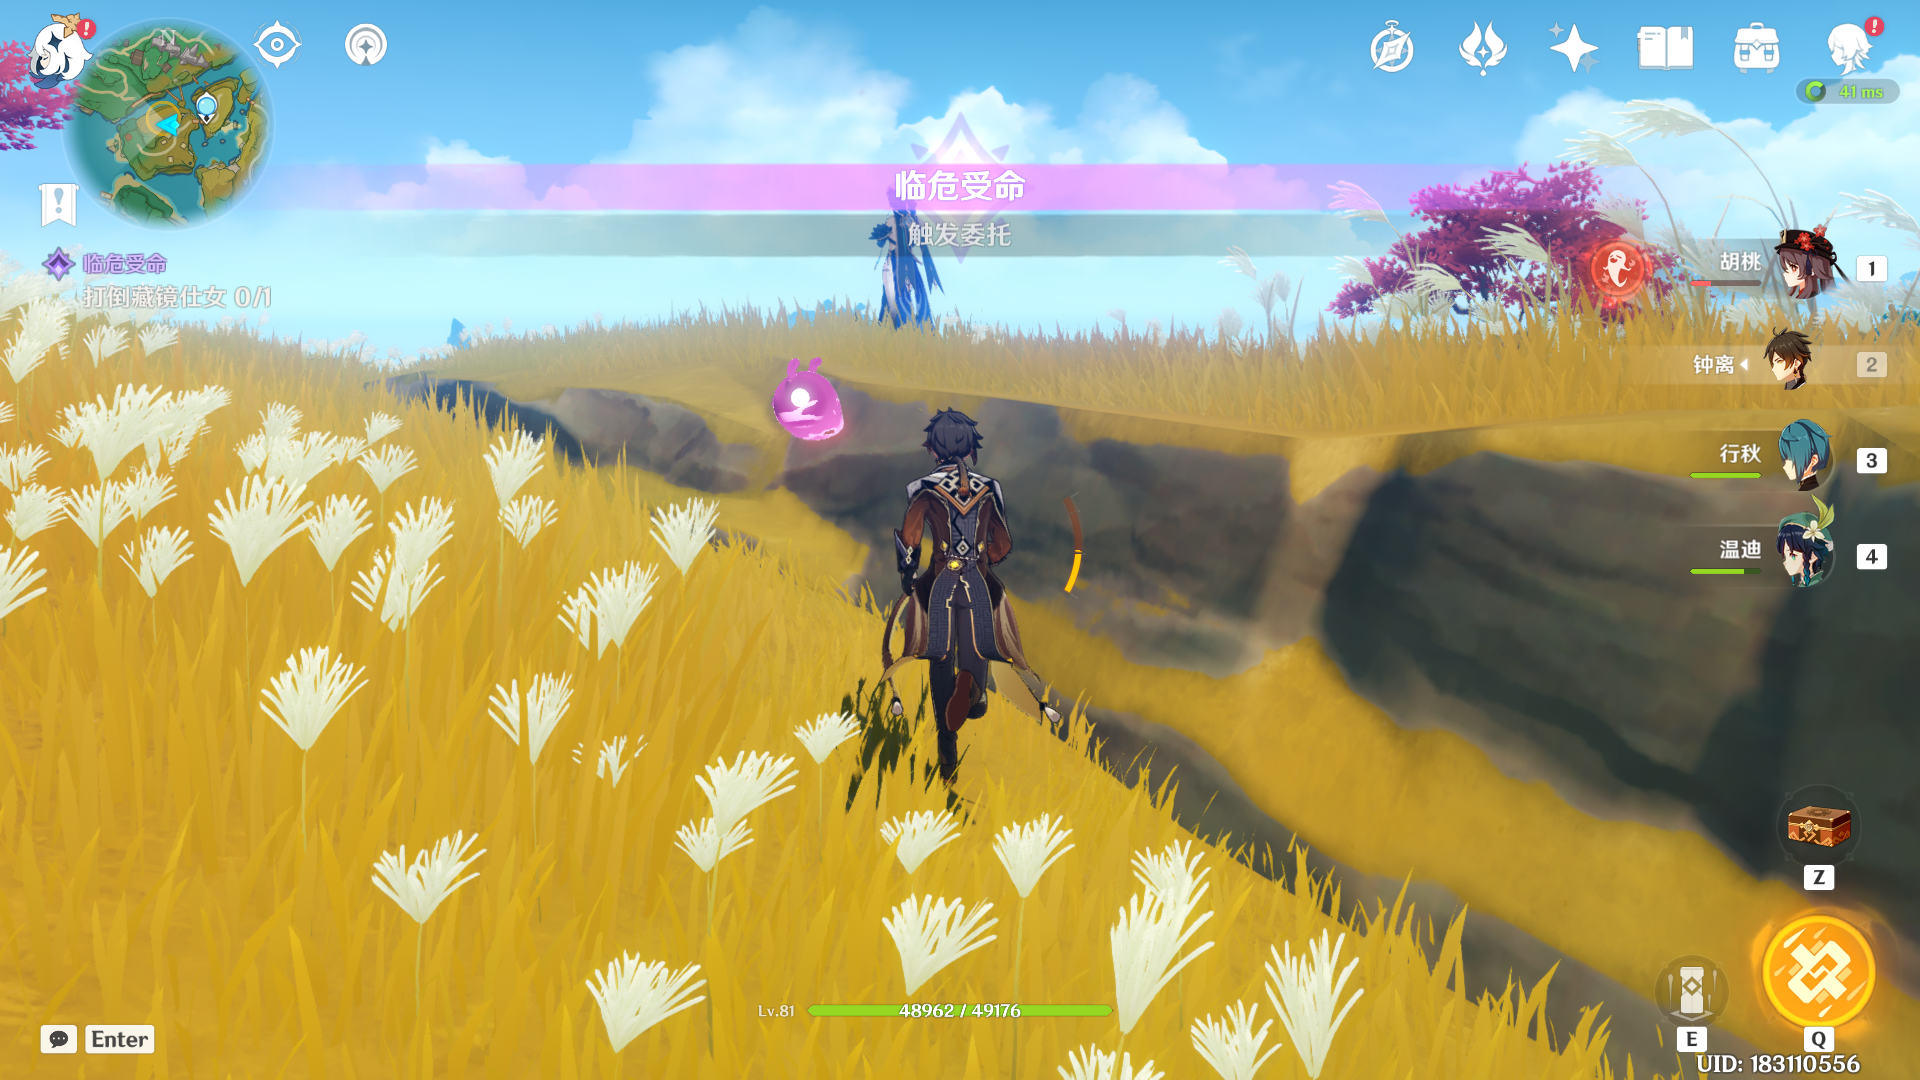character: (825, 392, 1076, 810)
